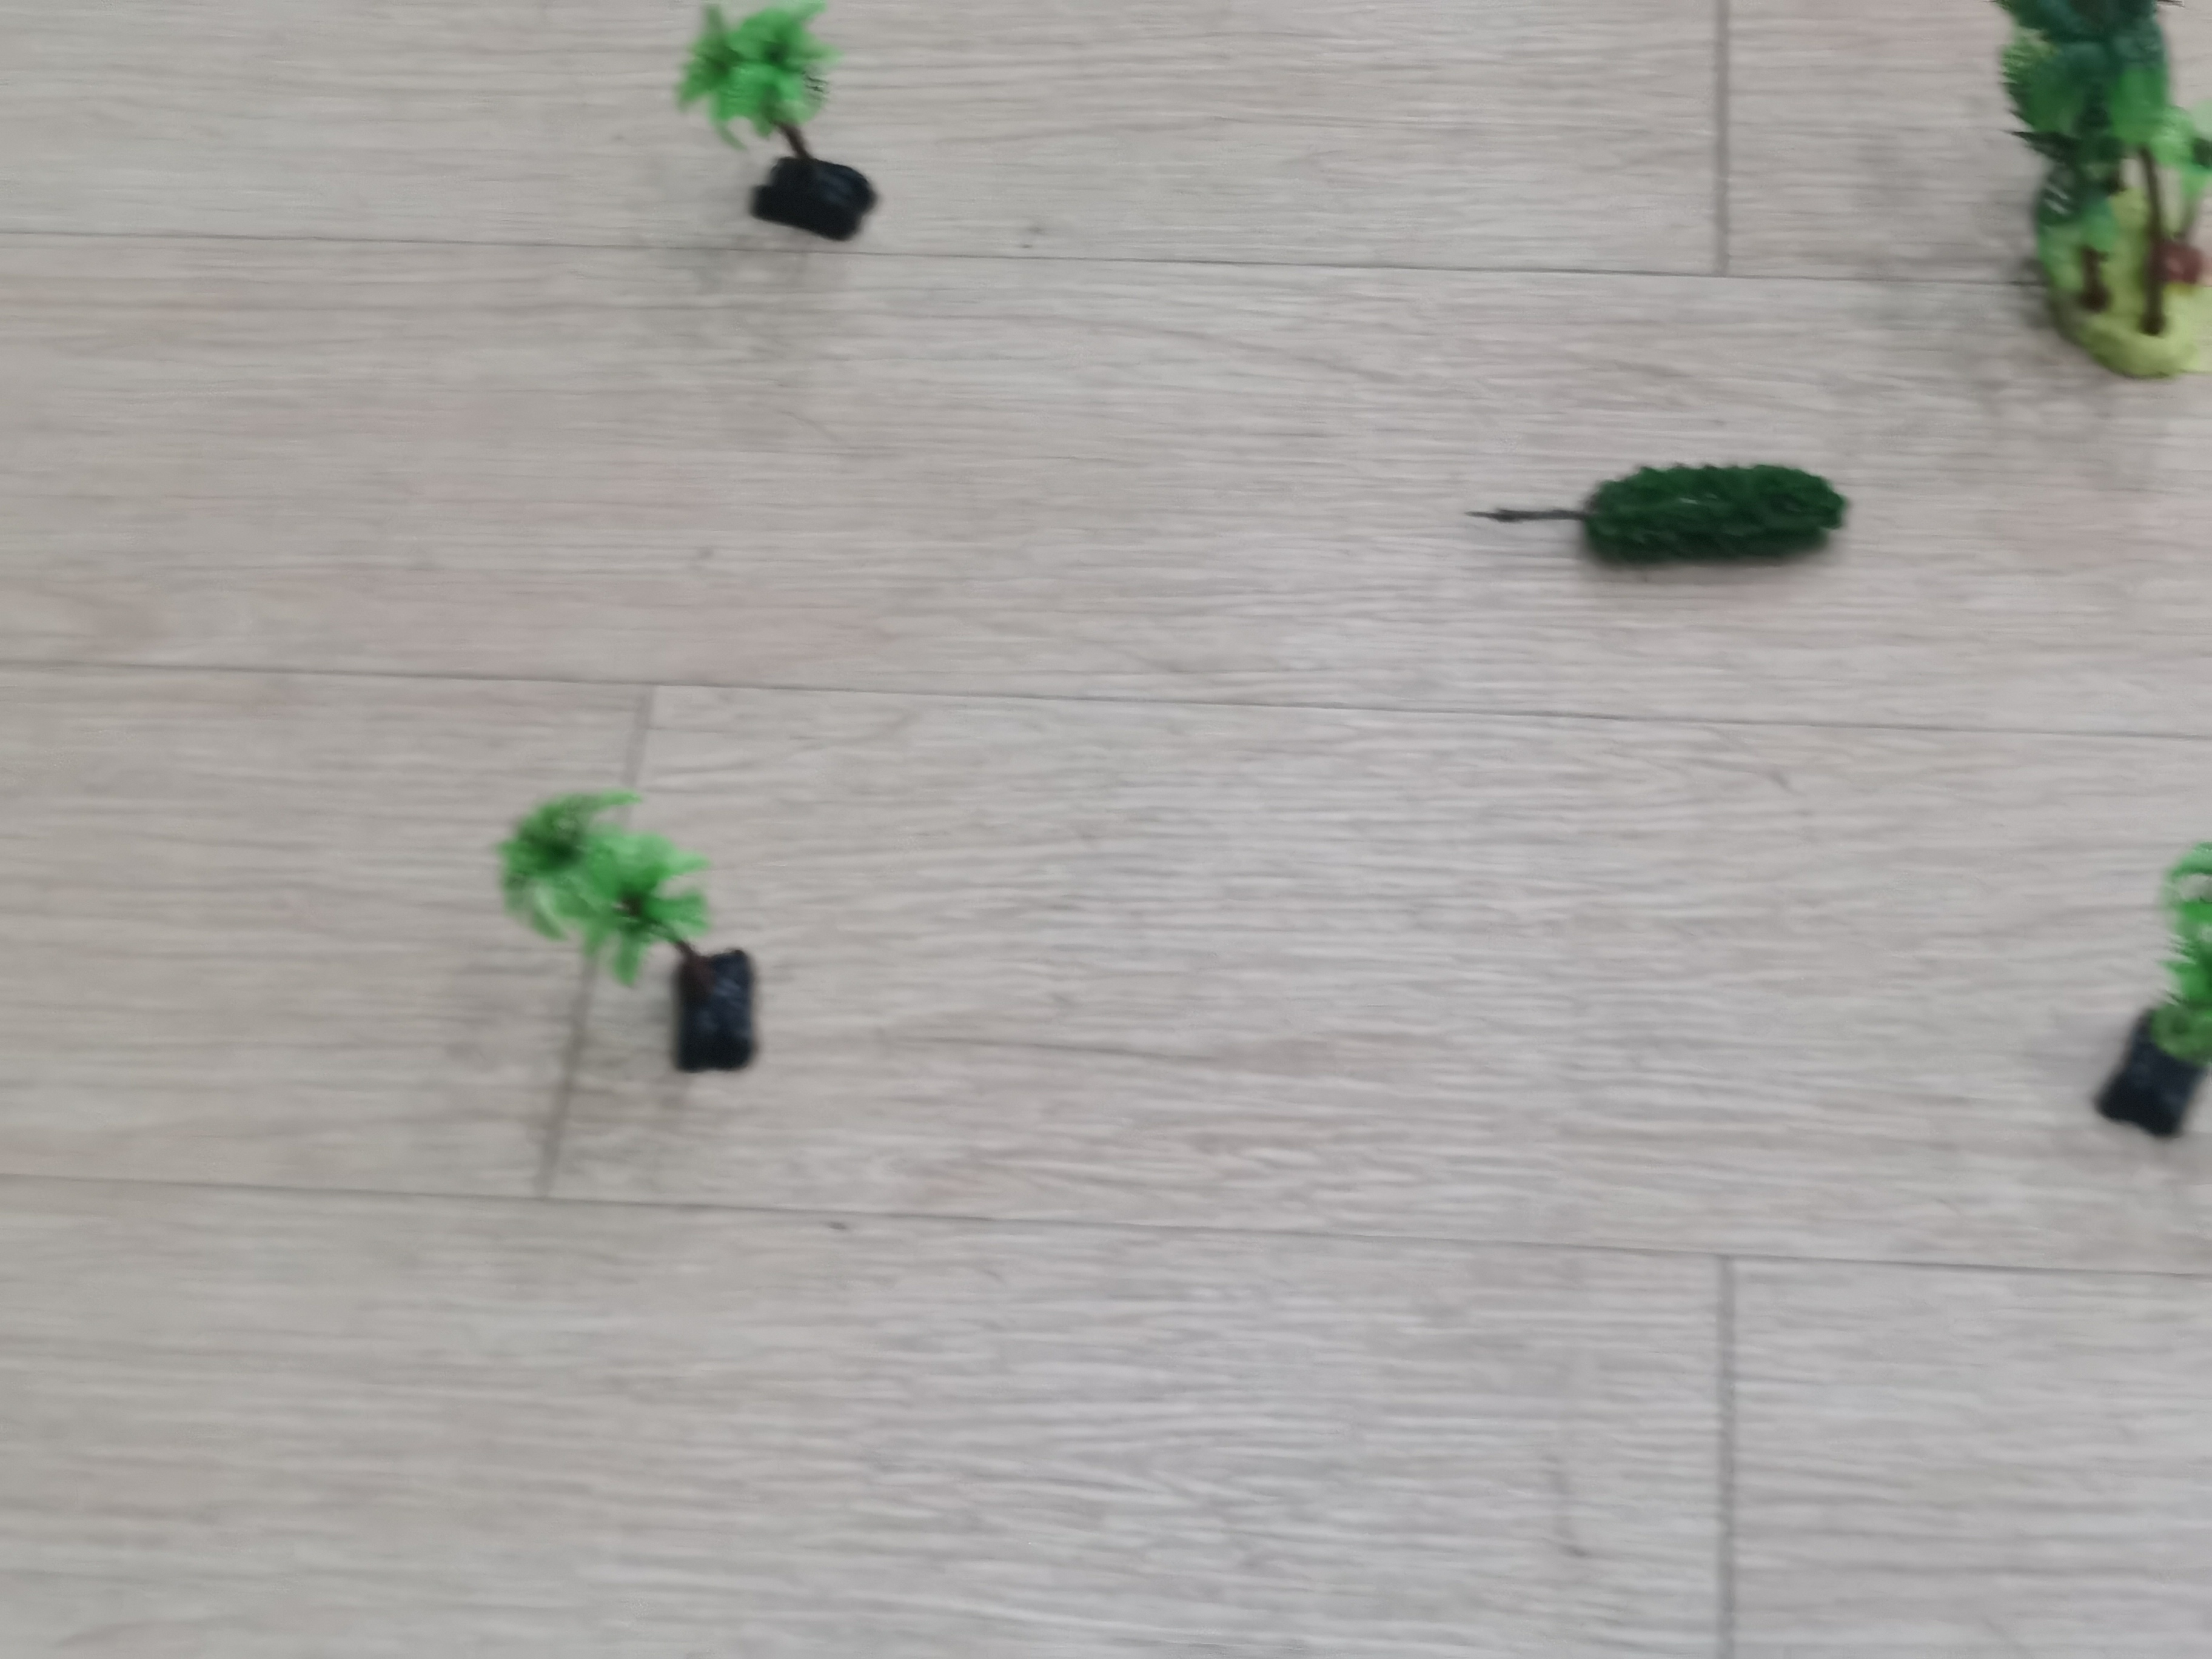corn: (481, 782, 777, 1072), (667, 2, 899, 240)
